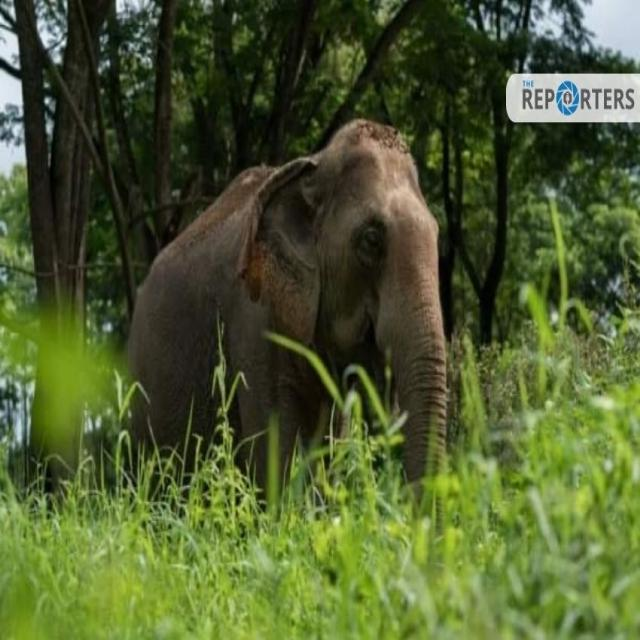Elephant: (93, 101, 465, 549)
